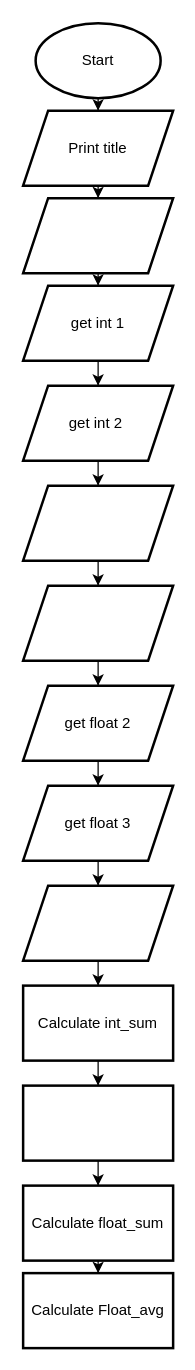
Some shapes in this 195 by 1370 pixel diagram are drawn without their labels. Each missing label, with the box of its shape:
Calculate int_avg: (21, 1084, 174, 1161)
get float 1: (21, 584, 174, 661)
get int 3: (21, 484, 174, 561)
Get name: (21, 196, 174, 274)
Process the values: (21, 884, 174, 961)
